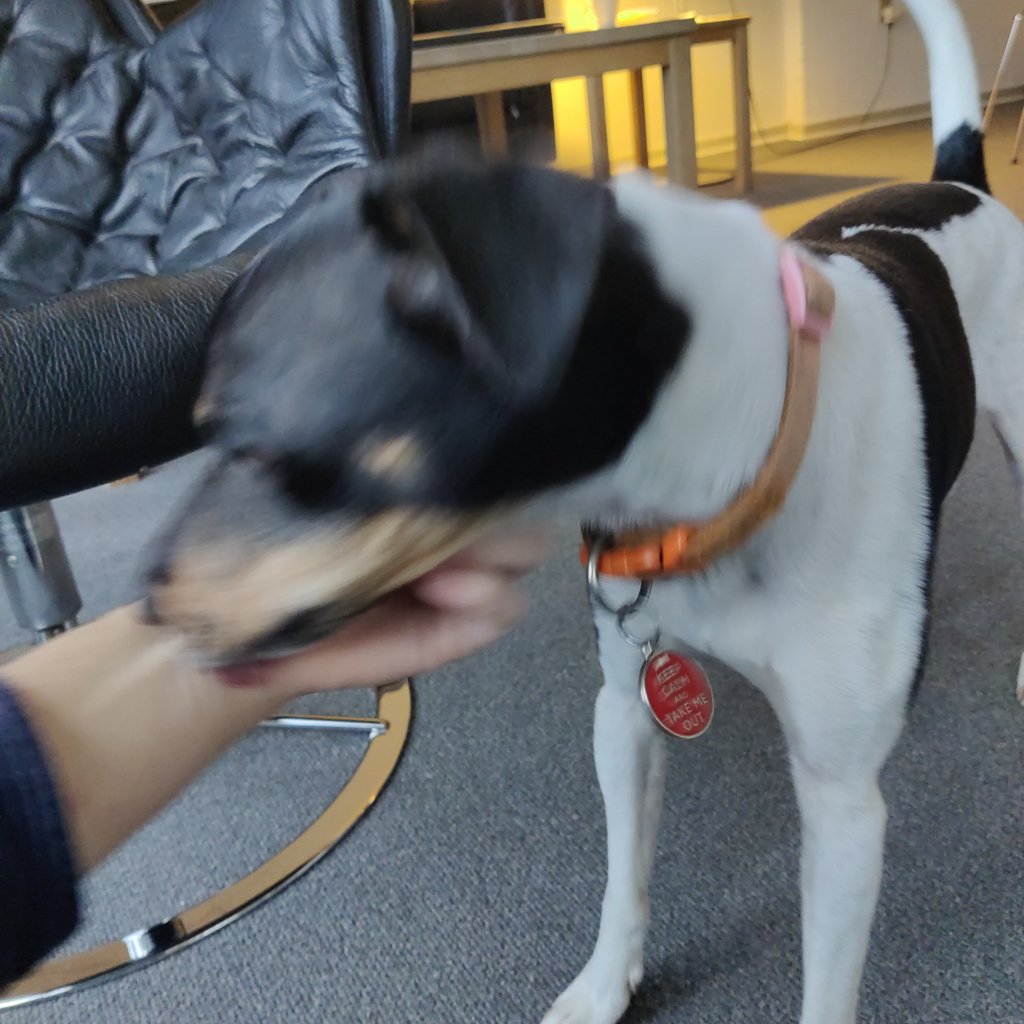Dog: (103, 0, 1024, 1024)
Humanoid: (0, 458, 568, 1024)
